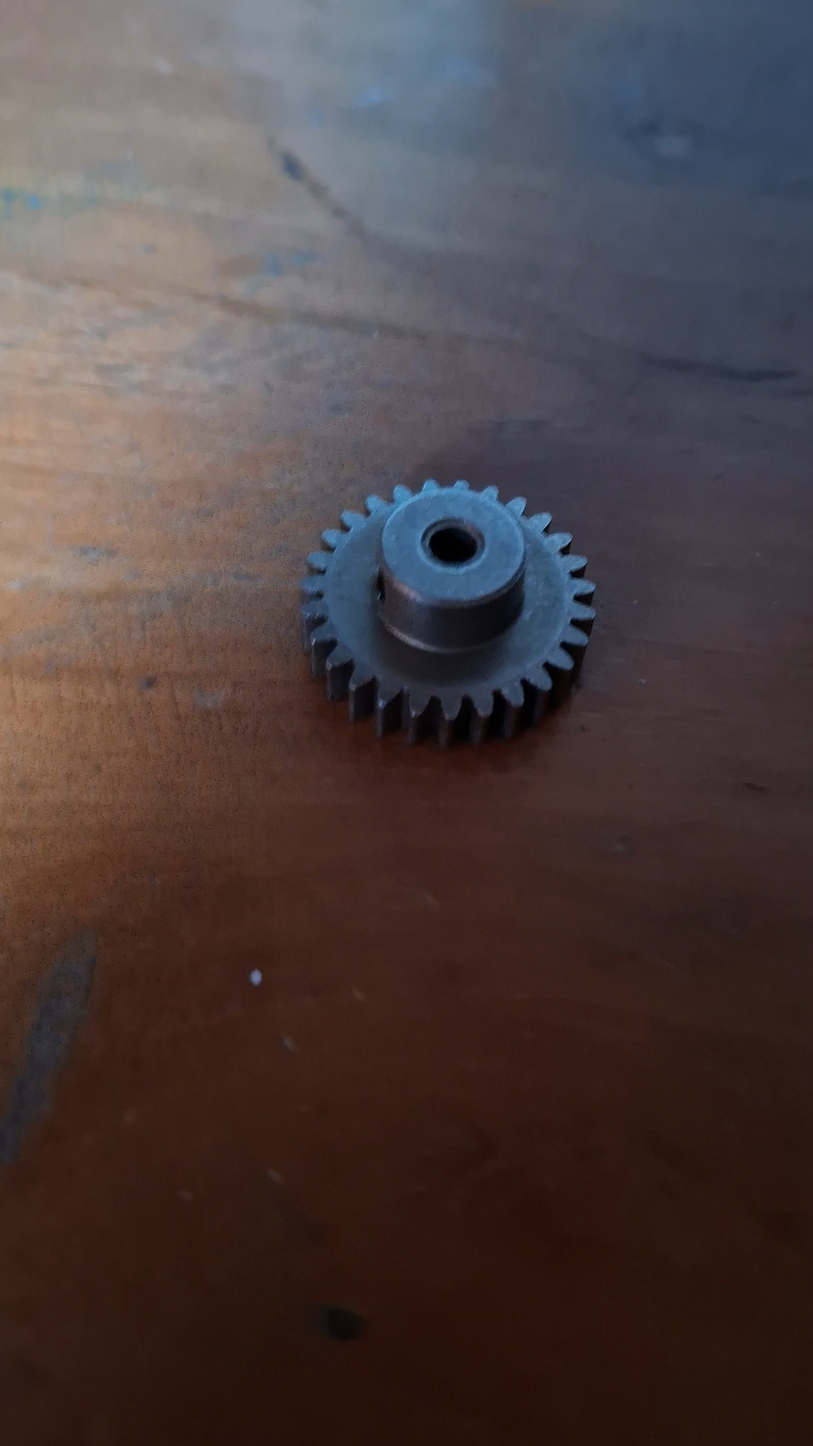spur gear: (301, 481, 594, 744)
